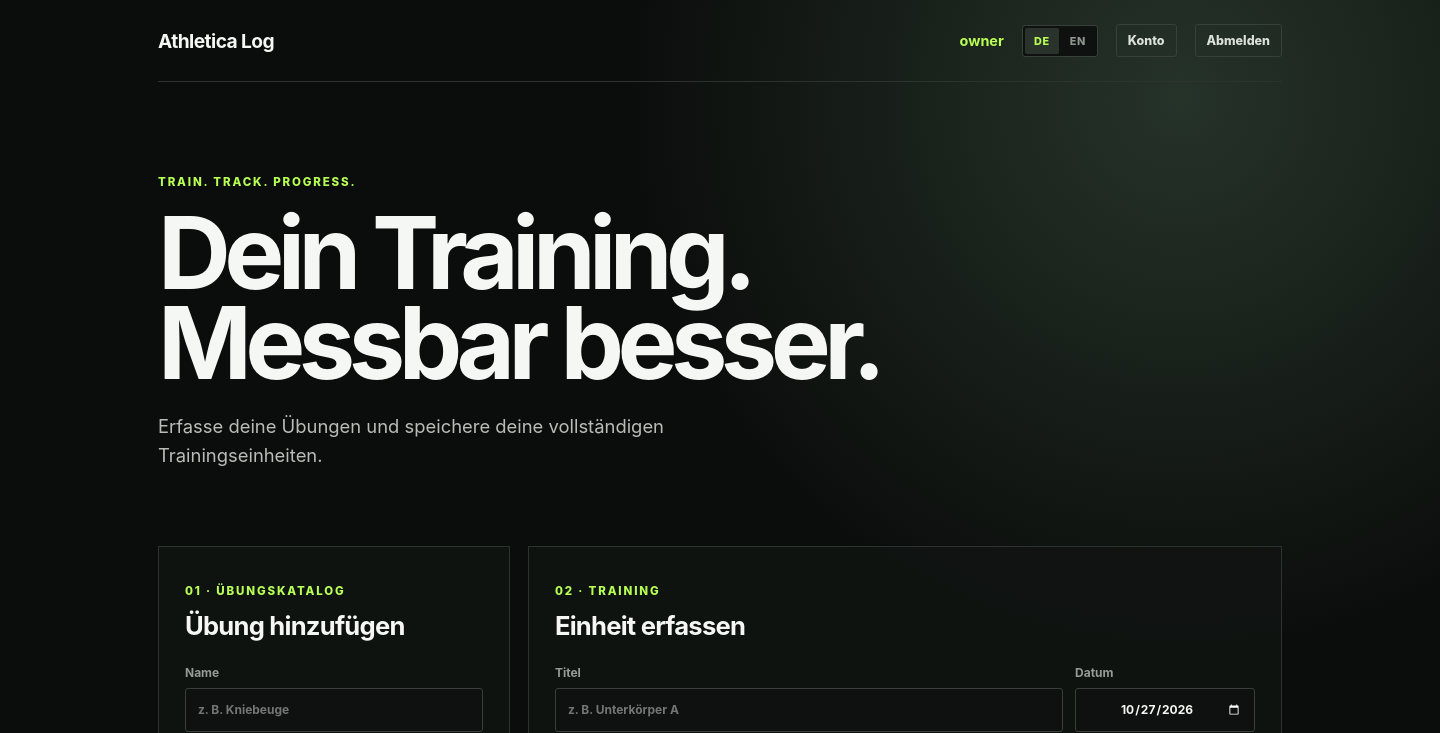
it: Home › lets an administrator deactivate a tester
Click the button "Konto" at (1146, 40), box left=1116, top=24, right=1176, bottom=57
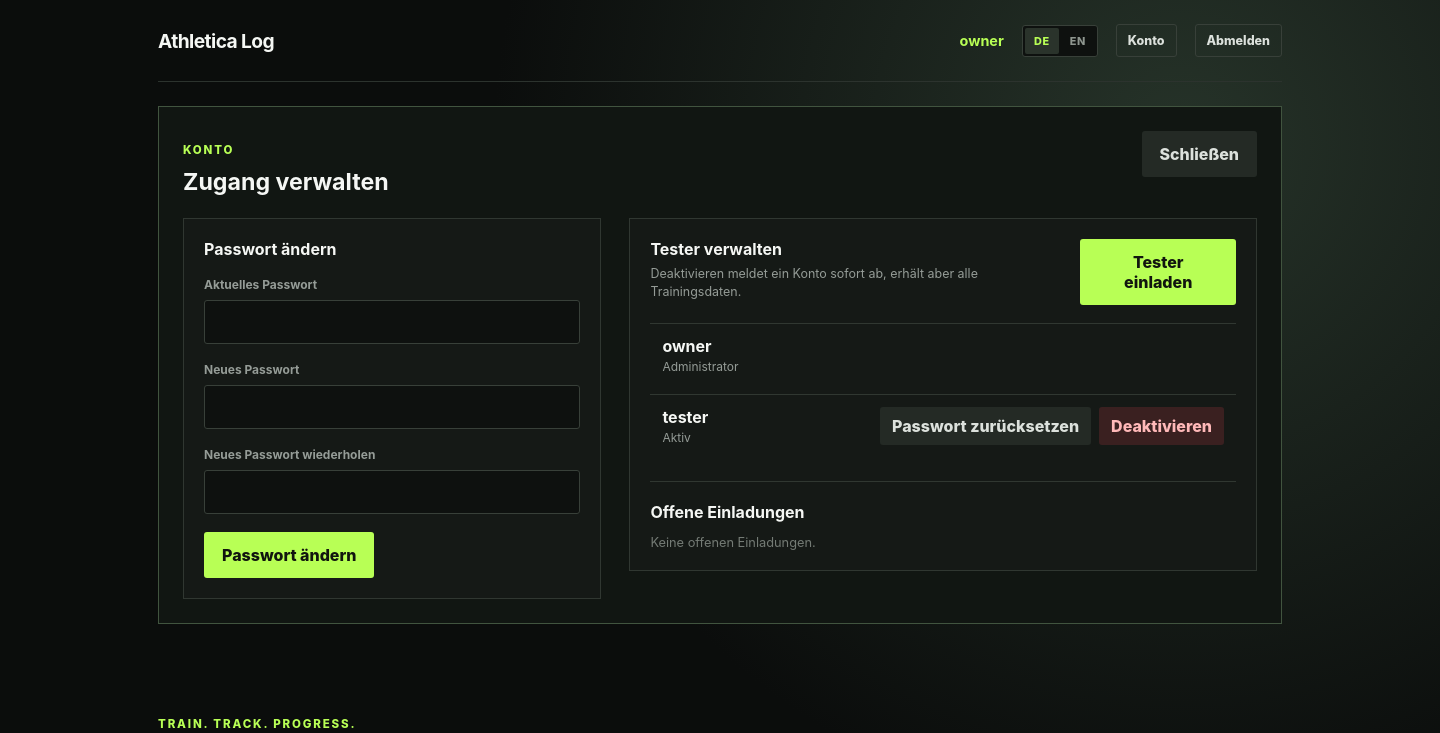
Result: the text "tester" is shown at left=662, top=407, right=708, bottom=427
Click the button "Deaktivieren" at (1162, 426), box left=1099, top=407, right=1224, bottom=445
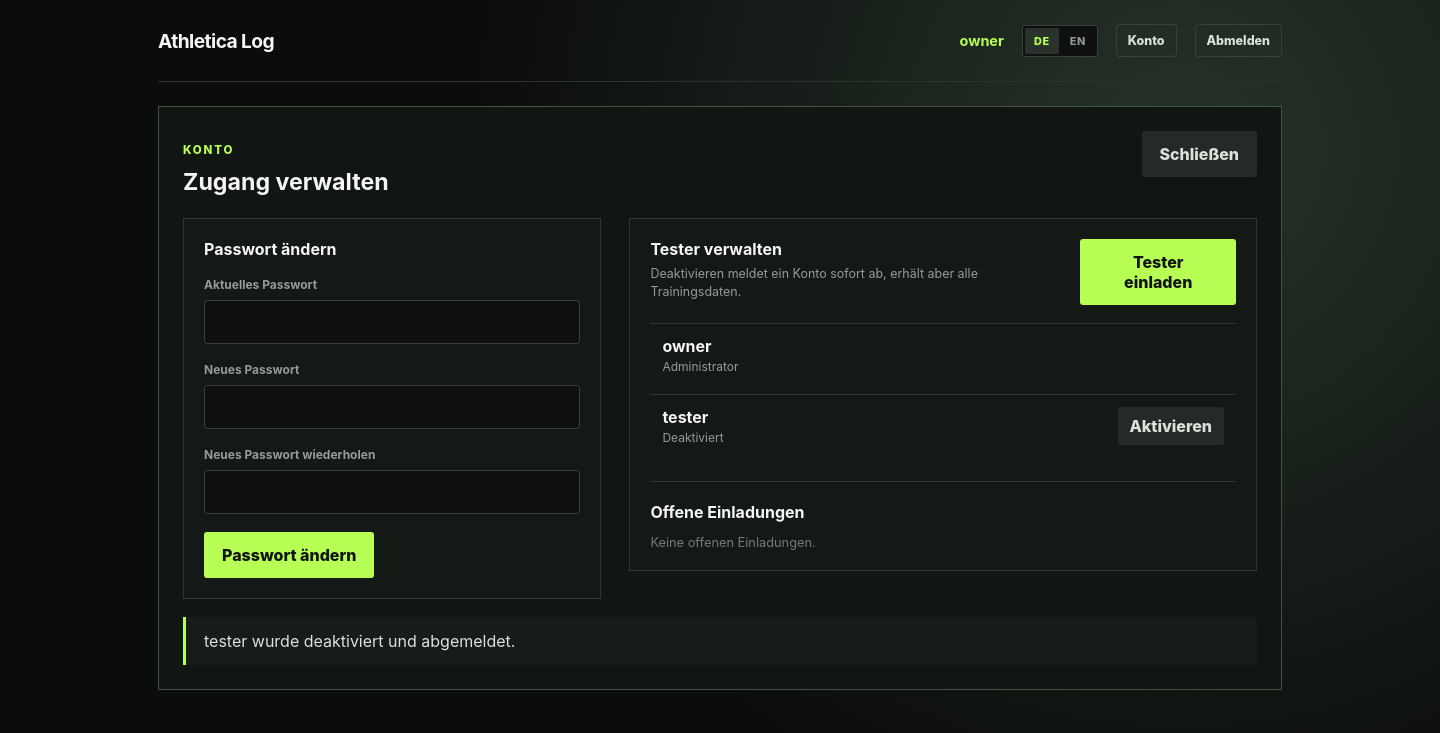
Result: the button "Aktivieren" is shown at left=1118, top=407, right=1224, bottom=445
Result: the message reads "tester wurde deaktiviert und abgemeldet." at left=204, top=631, right=515, bottom=651
